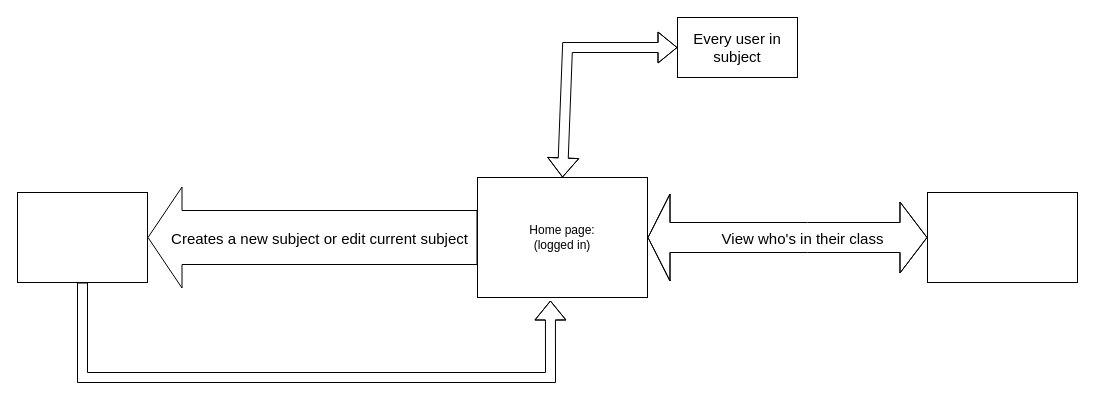
Some shapes in this 1095 by 400 pixel diagram are drawn without their labels. Here are the shapes that lost their labels. From the top down, the centre of each, then its label:
At point (82, 237): "New subeject".
At point (1002, 237): "Subject".
